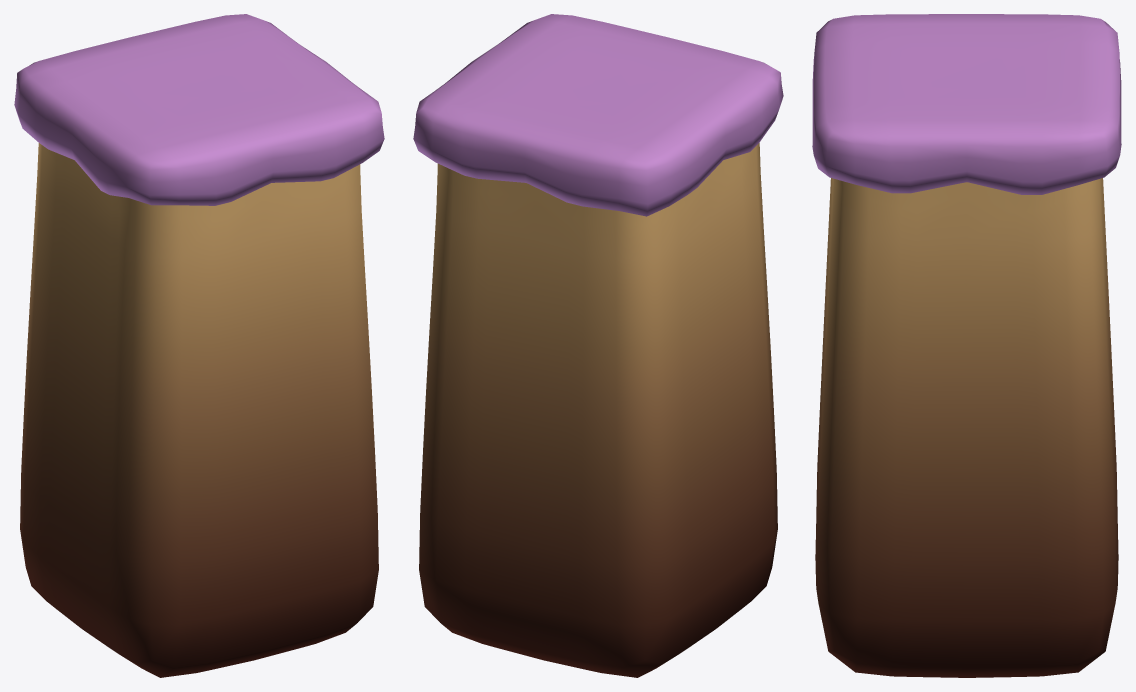
File: TileCandy_4m.fbx
3 views of the same model, side by side, from view 1: azimuth 30°, elevation 25°; view 2: azimuth 150°, elevation 25°; view 3: azimuth 270°, elevation 25° (orthographic). The views are drawn at different scales.
Parts seen in each view (by area): view 1: TileCandy_4m; view 2: TileCandy_4m; view 3: TileCandy_4m.
Boxes of the visible parts, x1,y1,x2,y2 form: TileCandy_4m: (14,14,384,677); TileCandy_4m: (413,14,783,677); TileCandy_4m: (812,14,1121,677).
Bounding box in the file's own units: 2 × 4 × 2.
